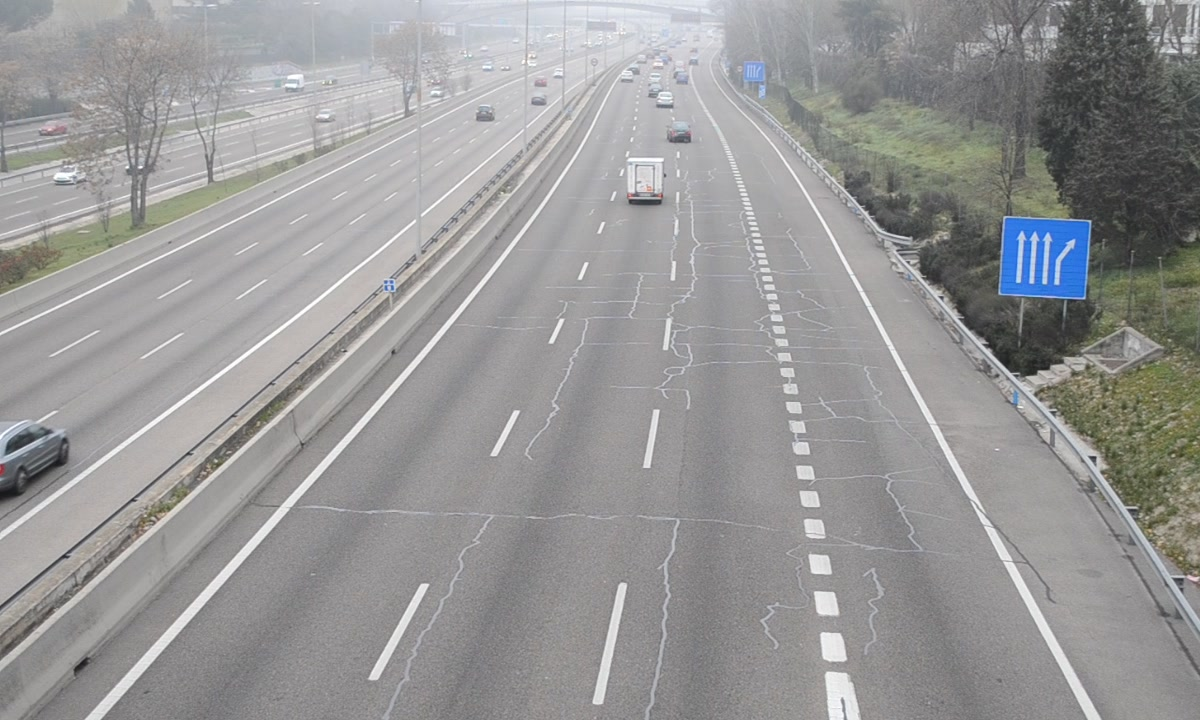car: (666, 120, 693, 142)
small-truck: (623, 157, 666, 201)
